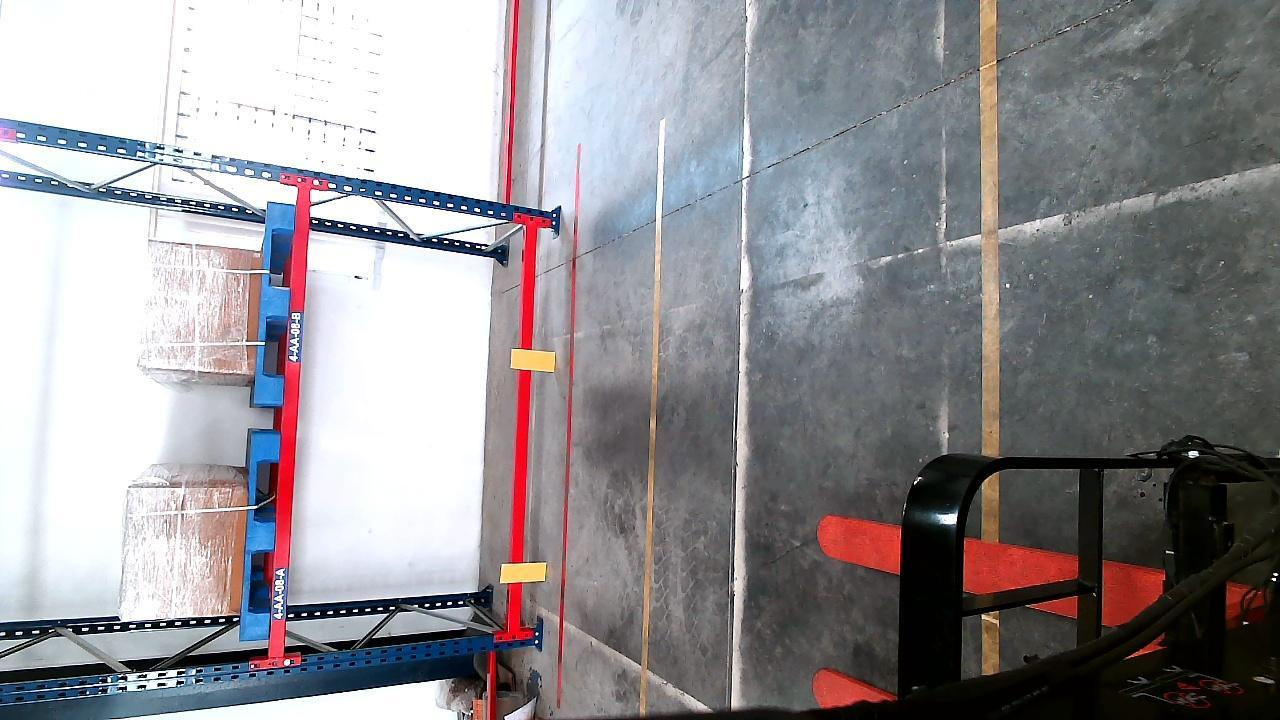red_line: (550, 139, 586, 706)
yellow_line: (634, 120, 668, 720), (980, 0, 1000, 456)
